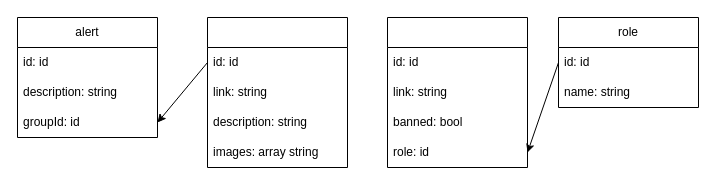
This 716x185 diagram has some shape labels left out. Each missing label, with the box of its shape:
group: (206, 16, 348, 168)
user: (386, 16, 528, 168)
